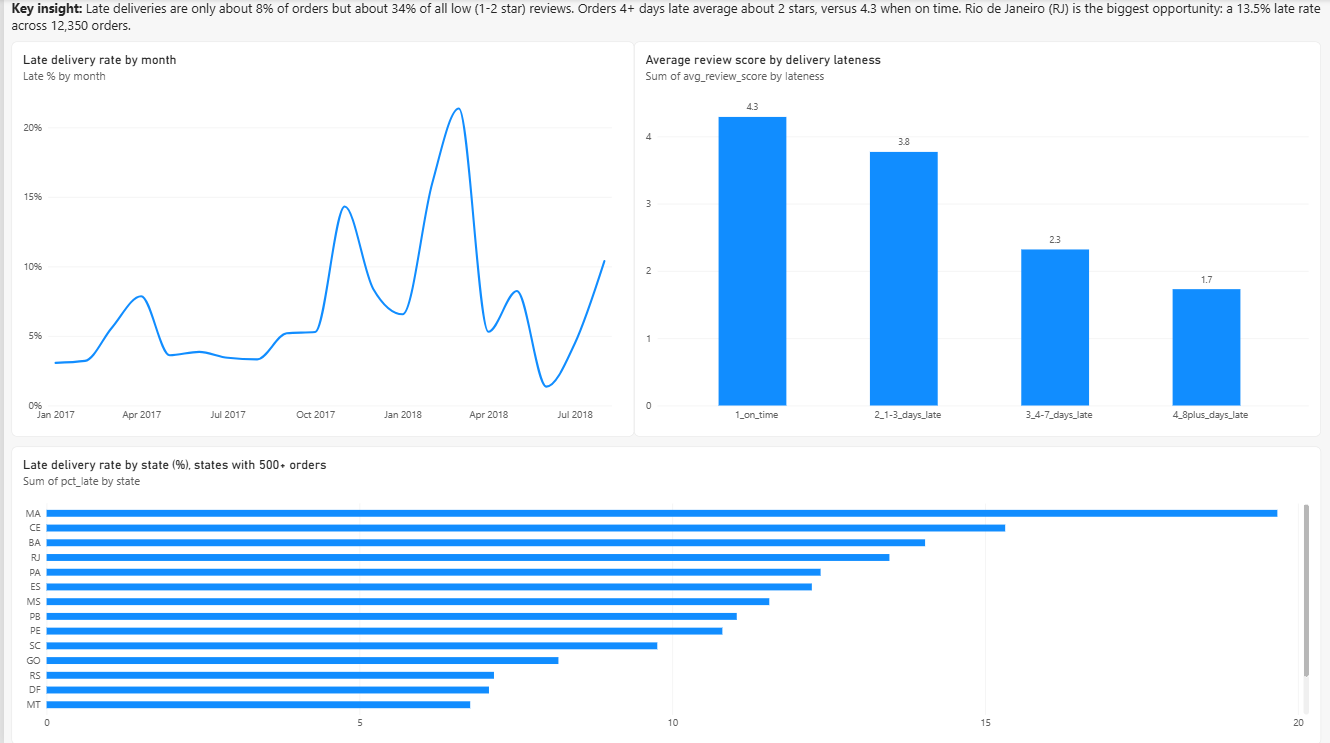

This screenshot's page, from the dashboard's own definition file:
{"tool":"powerbi","page":{"name":"Delivery & satisfaction","canvas":[1920,1080],"ordinal":1},"visuals":[{"type":"lineChart","title":"Late delivery rate by month","fields":{"Category":["monthly_summary.month"],"Y":["monthly_summary.Late %"]},"box":[10.3,61.7,901.5,572.2],"z":0},{"type":"clusteredColumnChart","title":"Average review score by delivery lateness","fields":{"Category":["lateness_vs_reviews.lateness"],"Y":["Sum(lateness_vs_reviews.avg_review_score)"]},"box":[911.8,61.7,994.2,572.2],"z":1000},{"type":"clusteredBarChart","title":"Late delivery rate by state (%), states with 500+ orders","fields":{"Category":["state_delivery.state"],"Y":["Sum(state_delivery.pct_late)"]},"box":[10.3,648.4,1895.7,432.2],"z":2000},{"type":"textbox","box":[10.3,0,1895.7,61.7],"z":3000}]}

Visuals, with their boxes in screenshot pixels (x1, y1, x2, y2), scaled from the page's 1920x1080 canvas onto the 1330x743 screenshot:
"Late delivery rate by month" lineChart: (x1=7, y1=42, x2=632, y2=436)
"Average review score by delivery lateness" clusteredColumnChart: (x1=632, y1=42, x2=1320, y2=436)
"Late delivery rate by state (%), states with 500+ orders" clusteredBarChart: (x1=7, y1=446, x2=1320, y2=742)
textbox: (x1=7, y1=0, x2=1320, y2=42)
